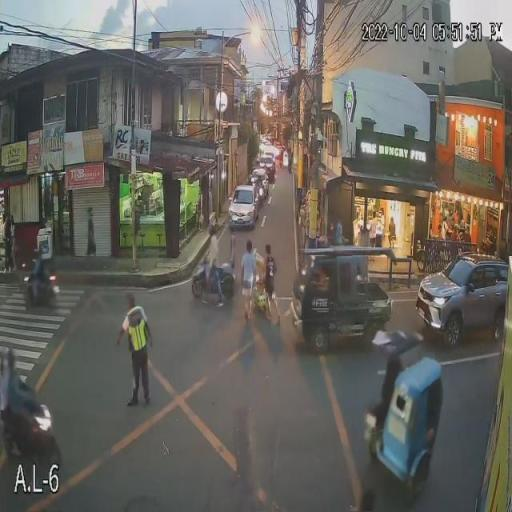helmet: (1, 347, 8, 368), (9, 350, 17, 366), (33, 248, 42, 259), (208, 224, 217, 234)
motorcycle: (0, 403, 62, 474), (193, 254, 236, 298), (19, 272, 60, 307)
rider: (12, 371, 30, 454), (205, 236, 224, 309), (30, 259, 46, 306), (1, 371, 10, 437)
